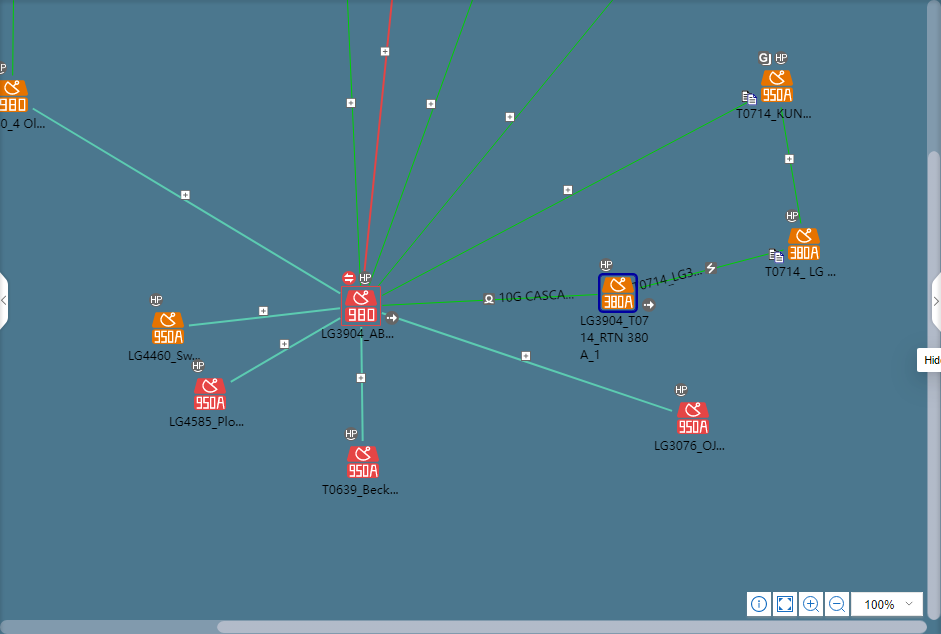Link_Blue: (31, 107, 342, 296), (381, 311, 673, 414), (229, 317, 341, 384), (188, 307, 340, 329), (359, 327, 365, 443)
Link_Green: (382, 101, 748, 297), (377, 1, 616, 286), (366, 1, 475, 286), (641, 246, 785, 291), (345, 1, 361, 273), (777, 106, 803, 225), (383, 293, 597, 307)
Link_Red: (363, 0, 396, 271)
RTN_Orange: (599, 277, 635, 311), (761, 70, 792, 102), (788, 229, 819, 260), (152, 313, 183, 344)
RTN_Red: (343, 290, 377, 323), (347, 447, 378, 479), (677, 403, 708, 435), (194, 379, 225, 410)
